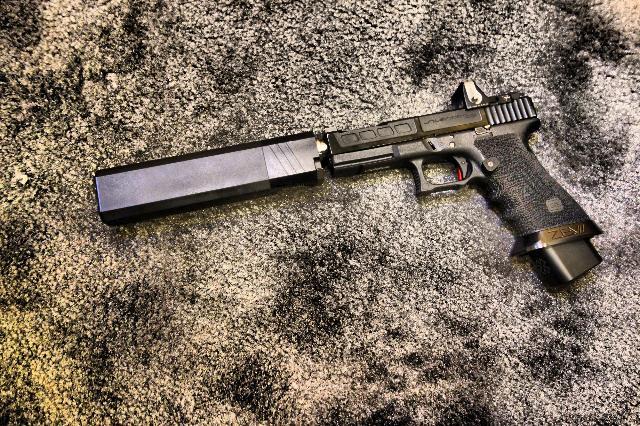pistol: (320, 82, 608, 278)
